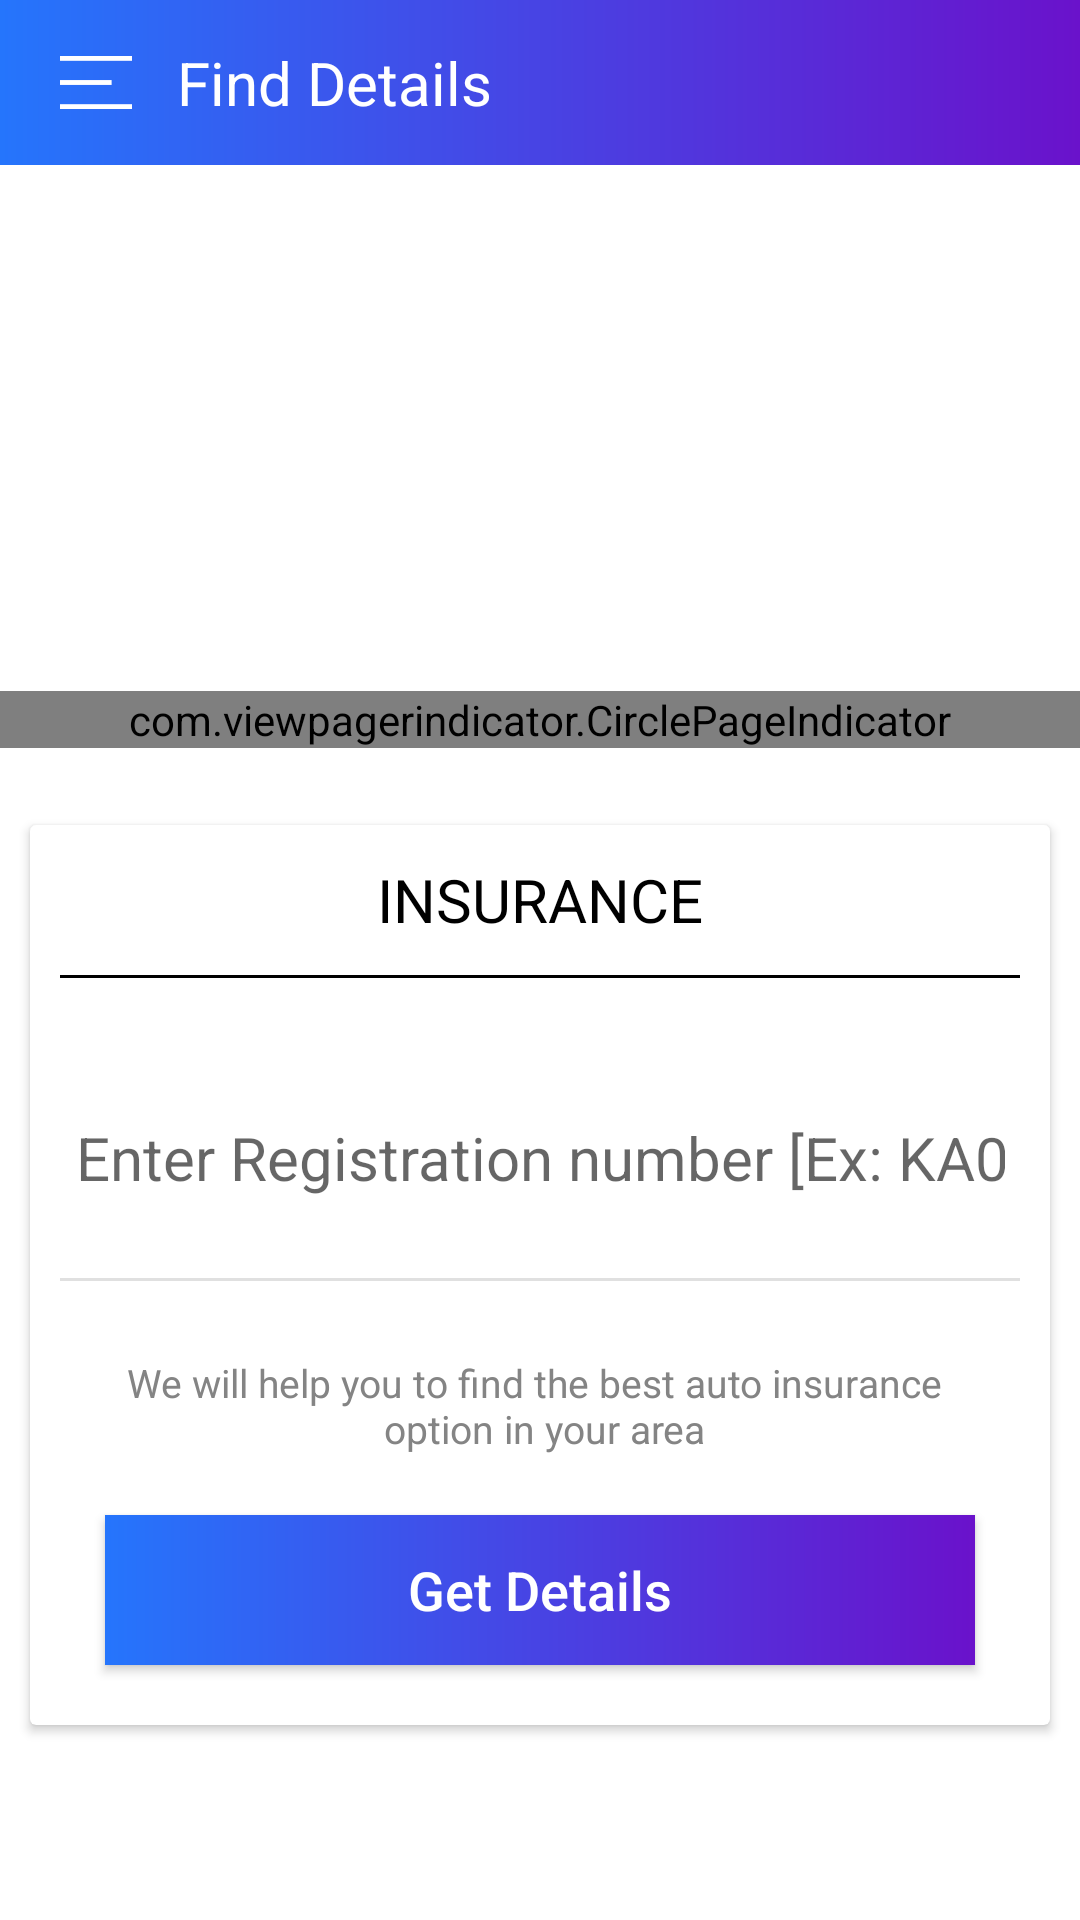

Locate icon controls on the screen. Image size 1080x1920, boxes as bbox=[x1, y1, x2, y2].
menu: bbox=[60, 56, 132, 109]
